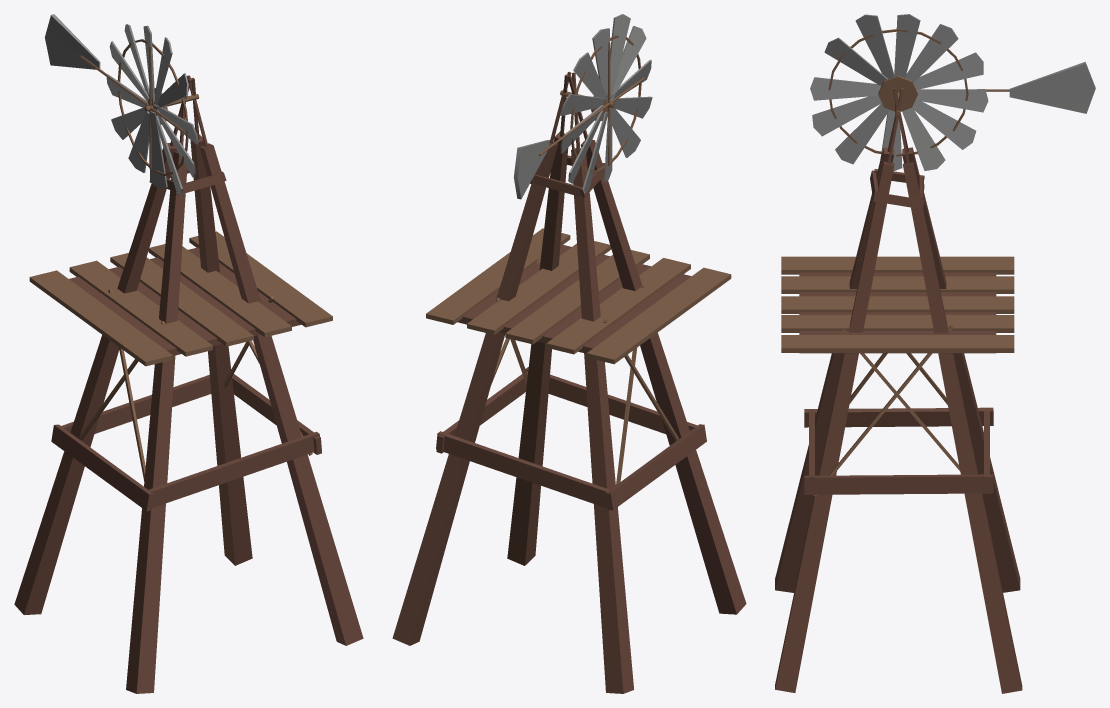
The model's file is western_mill.fbx.
The picture shows the model from 3 angles, left to right: view 1: azimuth 30°, elevation 25°; view 2: azimuth 150°, elevation 25°; view 3: azimuth 270°, elevation 25°; orthographic projection.
Parts seen in each view (by area): view 1: pCube4, pCube3, pCube1, pPipe3, pCube2, pCube7, pCube8, pCube14, pCube5, pCube10, pCube9, pCube11 (+5 smaller); view 2: pCube1, pCube2, pCube4, pPipe3, pCube3, pCube7, pCube12, pCube8, pCube5, pCube10, pCube9, pCube11 (+5 smaller); view 3: pPipe3, pCube2, pCube3, pCube4, pCube1, pCube11, pCube9, pCube15, pCube7, pCube8, pCube10, pCube5 (+8 smaller).
Part boxes in pixels (bbox=[...]): pCube4: bbox=[126, 77, 188, 693]; pCube3: bbox=[187, 75, 363, 645]; pCube1: bbox=[14, 79, 191, 614]; pPipe3: bbox=[106, 24, 198, 195]; pCube2: bbox=[190, 77, 252, 565]; pCube7: bbox=[29, 270, 172, 366]; pCube8: bbox=[69, 260, 212, 356]; pCube14: bbox=[146, 431, 319, 507]; pCube5: bbox=[69, 247, 301, 355]; pCube10: bbox=[148, 244, 291, 337]; pCube9: bbox=[110, 253, 253, 346]; pCube11: bbox=[189, 231, 332, 327]; pCube1: bbox=[571, 72, 633, 693]; pCube2: bbox=[392, 72, 570, 645]; pCube4: bbox=[568, 75, 746, 614]; pPipe3: bbox=[560, 14, 652, 193]; pCube3: bbox=[507, 74, 568, 565]; pCube7: bbox=[586, 267, 731, 364]; pCube12: bbox=[436, 431, 609, 508]; pCube8: bbox=[546, 258, 690, 354]; pCube5: bbox=[457, 244, 691, 353]; pCube10: bbox=[467, 241, 611, 334]; pCube9: bbox=[505, 250, 649, 344]; pCube11: bbox=[426, 228, 570, 324]; pPipe3: bbox=[810, 14, 988, 171]; pCube2: bbox=[893, 89, 1022, 693]; pCube3: bbox=[775, 89, 903, 692]; pCube4: bbox=[775, 87, 903, 592]; pCube1: bbox=[892, 87, 1020, 592]; pCube11: bbox=[781, 335, 1014, 352]; pCube9: bbox=[781, 296, 1014, 313]; pCube15: bbox=[804, 474, 993, 494]; pCube7: bbox=[781, 256, 1014, 274]; pCube8: bbox=[781, 276, 1014, 293]; pCube10: bbox=[781, 315, 1014, 332]; pCube5: bbox=[799, 272, 996, 353].
Bounding box in the file's own units: 2.17 × 5.47 × 2.61.
